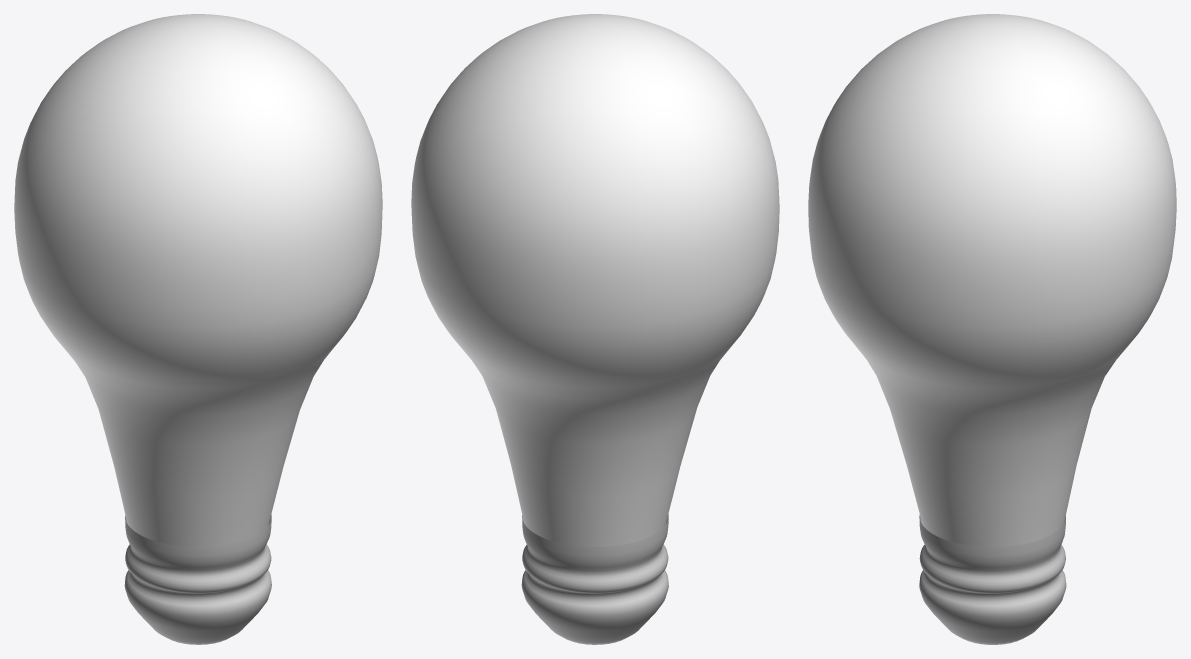
The model's file is blub.fbx.
The picture shows the model from 3 angles, left to right: view 1: azimuth 30°, elevation 25°; view 2: azimuth 150°, elevation 25°; view 3: azimuth 270°, elevation 25°; orthographic projection.
Visible parts, largest first — view 1: Cylinder.001, Cylinder; view 2: Cylinder.001, Cylinder; view 3: Cylinder.001, Cylinder.
Boxes of the visible parts, x1,y1,x2,y2 form: Cylinder.001: [14, 14, 382, 546]; Cylinder: [124, 514, 271, 644]; Cylinder.001: [411, 14, 779, 546]; Cylinder: [521, 514, 668, 644]; Cylinder.001: [808, 14, 1176, 546]; Cylinder: [919, 514, 1066, 644].
Size of the model in its own units: 127 by 229 by 127.
